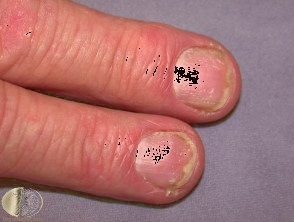Nail_psoriasis: (113, 108, 215, 210), (165, 41, 241, 119)
